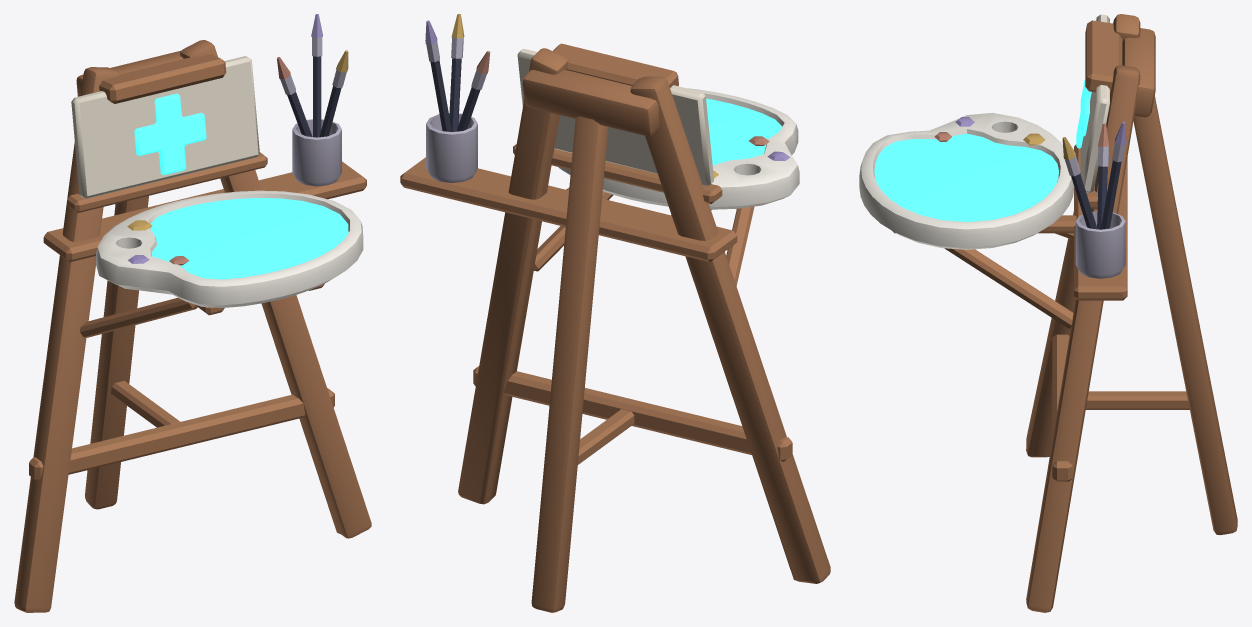
File: healing_station.glb
The picture shows the model from 3 angles, left to right: view 1: azimuth 30°, elevation 25°; view 2: azimuth 150°, elevation 25°; view 3: azimuth 270°, elevation 25°; orthographic projection. The views are drawn at different scales.
Parts seen in each view (by area): view 1: Easel, Canvas, BasinPaint, Palette, BrushCup, PlusSign, PaletteDabs; view 2: Easel, Palette, BrushCup, Canvas, BasinPaint; view 3: Easel, BasinPaint, Palette, BrushCup, Canvas, PlusSign.
Part boxes in pixels (bbox=[...]): Easel: bbox=[14, 40, 371, 612]; Canvas: bbox=[71, 56, 259, 198]; BasinPaint: bbox=[150, 198, 348, 279]; Palette: bbox=[96, 190, 363, 307]; BrushCup: bbox=[277, 14, 348, 186]; PlusSign: bbox=[134, 93, 206, 175]; PaletteDabs: bbox=[127, 220, 189, 265]; Easel: bbox=[400, 43, 830, 612]; Palette: bbox=[558, 88, 799, 209]; BrushCup: bbox=[425, 14, 490, 182]; Canvas: bbox=[517, 48, 713, 186]; BasinPaint: bbox=[706, 98, 782, 165]; Easel: bbox=[892, 14, 1237, 612]; BasinPaint: bbox=[874, 133, 1058, 221]; Palette: bbox=[859, 112, 1074, 249]; BrushCup: bbox=[1062, 122, 1126, 278]; Canvas: bbox=[1080, 14, 1109, 193]; PlusSign: bbox=[1076, 80, 1091, 148].
Size of the model in its own units: 0.9531 by 1.21 by 0.8446.
